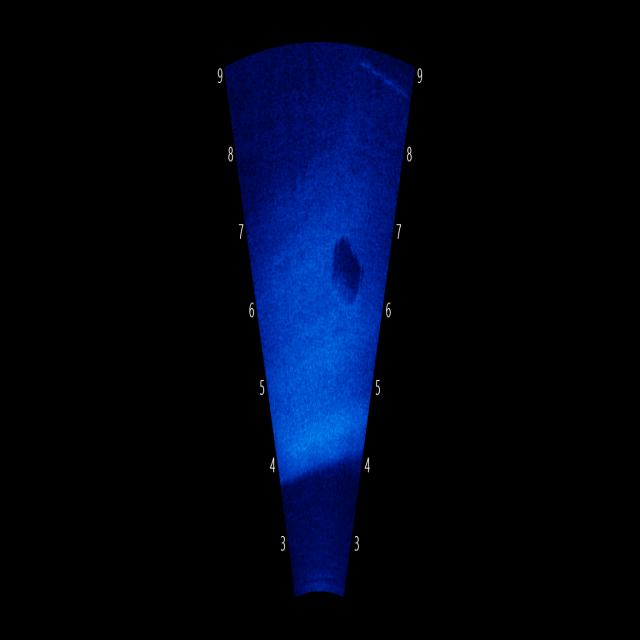square: (326, 234, 366, 316)
